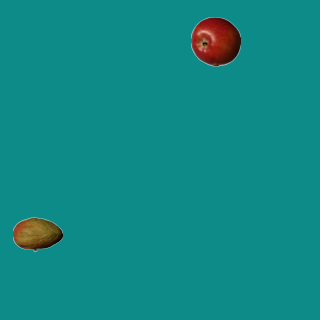Apple Braeburn: (190, 16, 240, 66)
Papaya: (12, 209, 62, 259)
